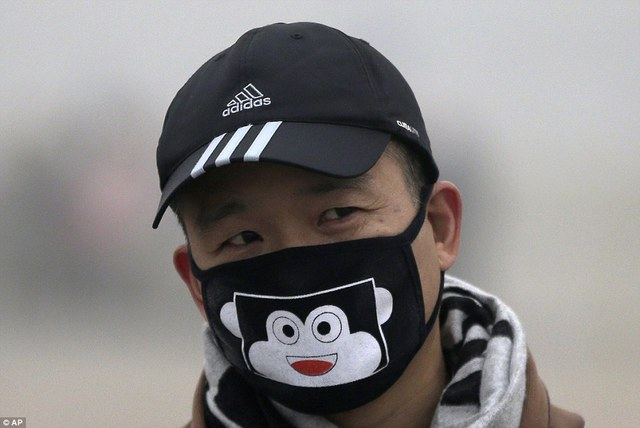mask: (206, 257, 429, 384)
